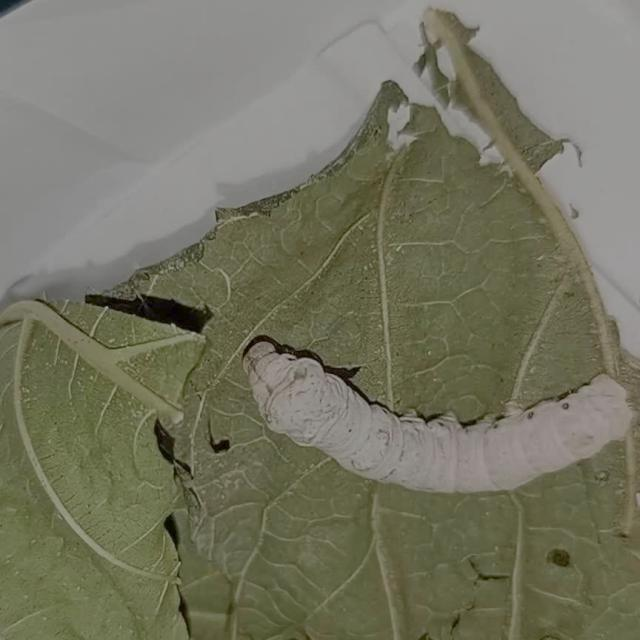Healthy: (234, 326, 636, 500)
